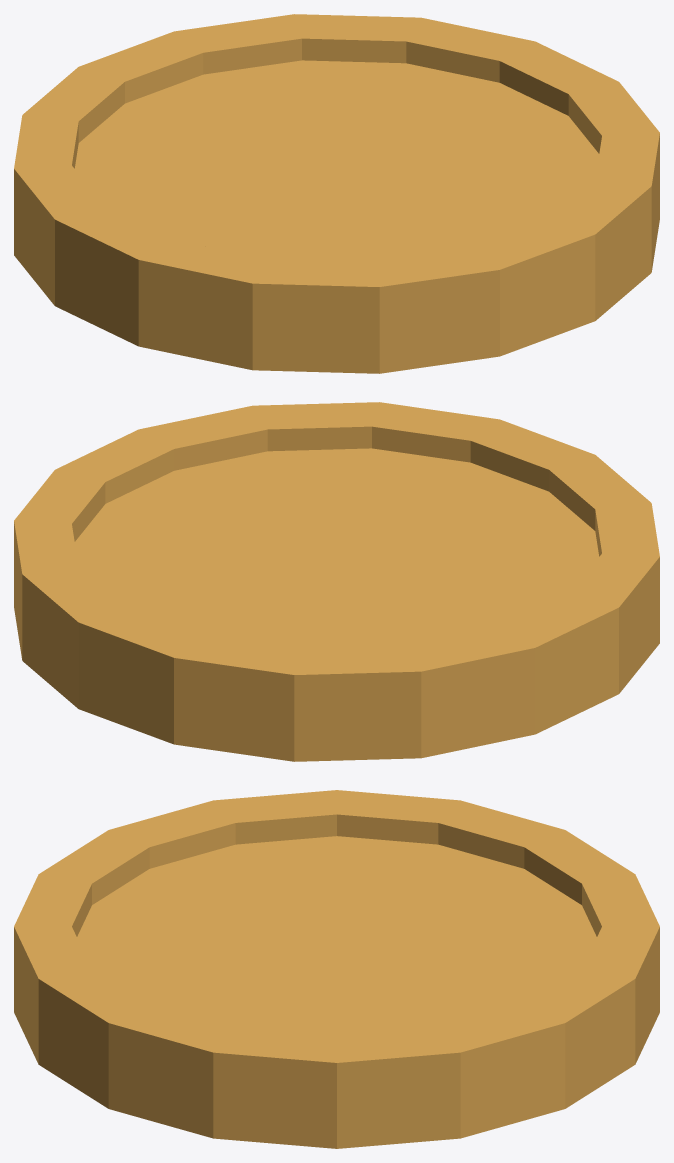
The model's file is coin.fbx.
3 renders of one model, top to bottom at view 1: azimuth 30°, elevation 25°; view 2: azimuth 150°, elevation 25°; view 3: azimuth 270°, elevation 25°, orthographic.
Parts seen in each view (by area): view 1: coin; view 2: coin; view 3: coin.
Boxes of the visible parts, <box> form: coin: <box>14,14,659,373</box>; coin: <box>14,402,659,761</box>; coin: <box>14,790,659,1148</box>.
Bounding box in the file's own units: 49.35 × 7.24 × 49.35.
